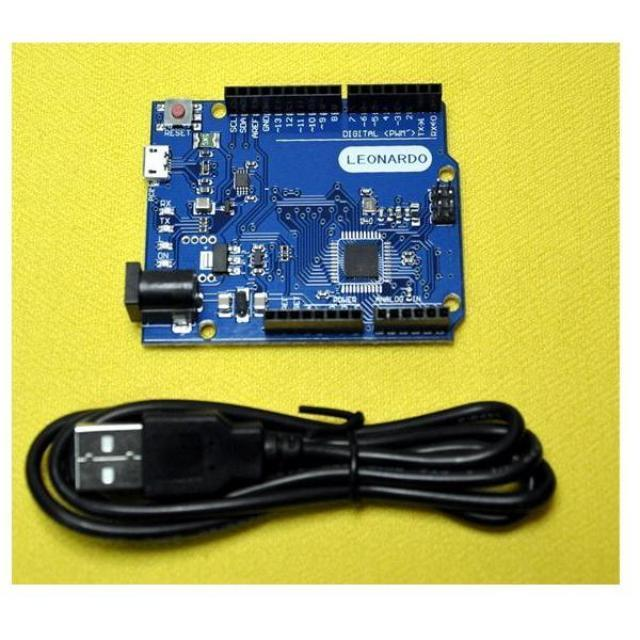Arduino-leonardo: (126, 85, 464, 344)
